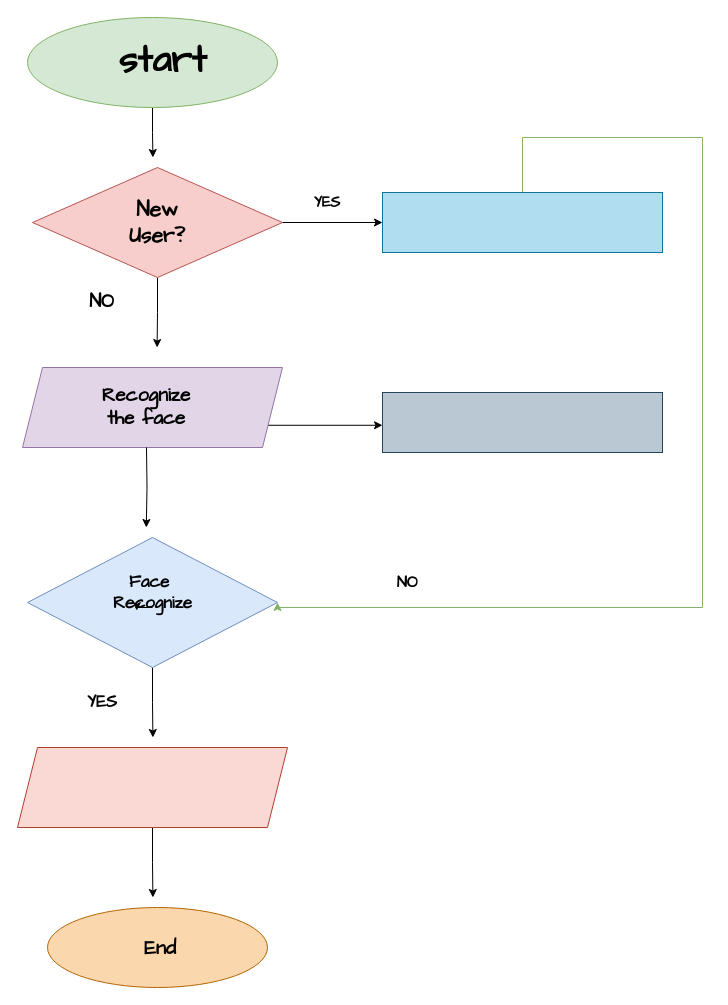
Image size: 728x1005. Some labels were removed from this diagram. The shapes that lost their labels are listed below. From the top down, each one's box as (x1, y1, x2, y2) in pixels, then its label:
(382, 192, 662, 252): Give your photograph
(382, 392, 662, 452): Store the face data in floder on your namr
(16, 746, 288, 828): Stored in CSV file with Registration Number & Date .Time of Entry
